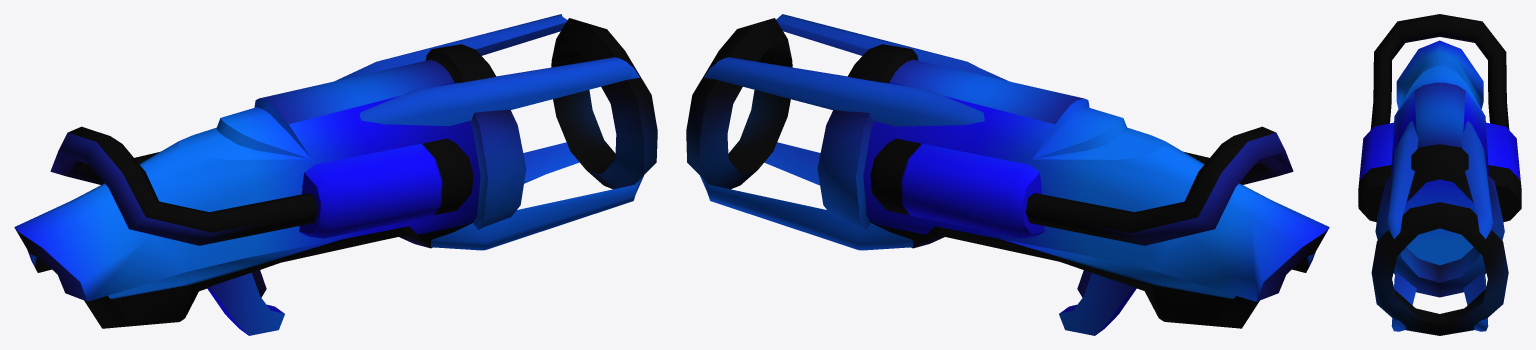
The picture shows the model from 3 angles, left to right: view 1: azimuth 30°, elevation 25°; view 2: azimuth 150°, elevation 25°; view 3: azimuth 270°, elevation 25°; orthographic projection. The views are drawn at different scales.
Visible parts, largest first — view 1: glauncher_noesis_meshnode_0000; view 2: glauncher_noesis_meshnode_0000; view 3: glauncher_noesis_meshnode_0000.
Boxes of the visible parts, x1,y1,x2,y2 form: glauncher_noesis_meshnode_0000: (14, 14, 657, 335); glauncher_noesis_meshnode_0000: (686, 14, 1329, 335); glauncher_noesis_meshnode_0000: (1358, 14, 1521, 335).
Size of the model in its own units: 28.34 by 10.39 by 8.61.
Materials: 1 (1 with a texture image).
